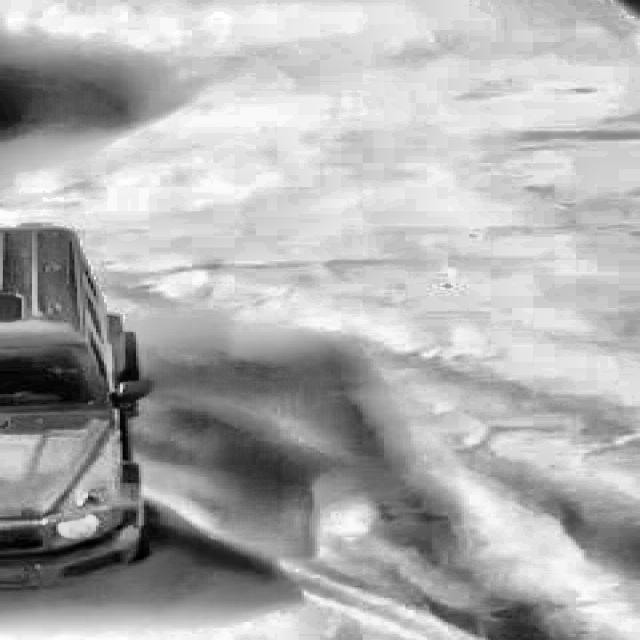light_vehicle: (0, 223, 157, 579)
